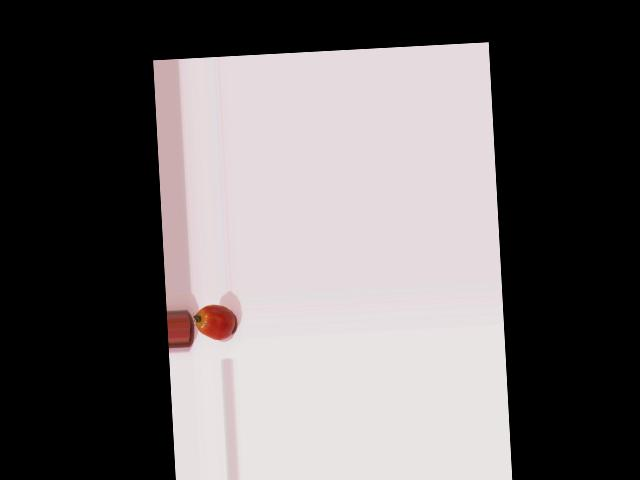tomato: (194, 304, 235, 341)
